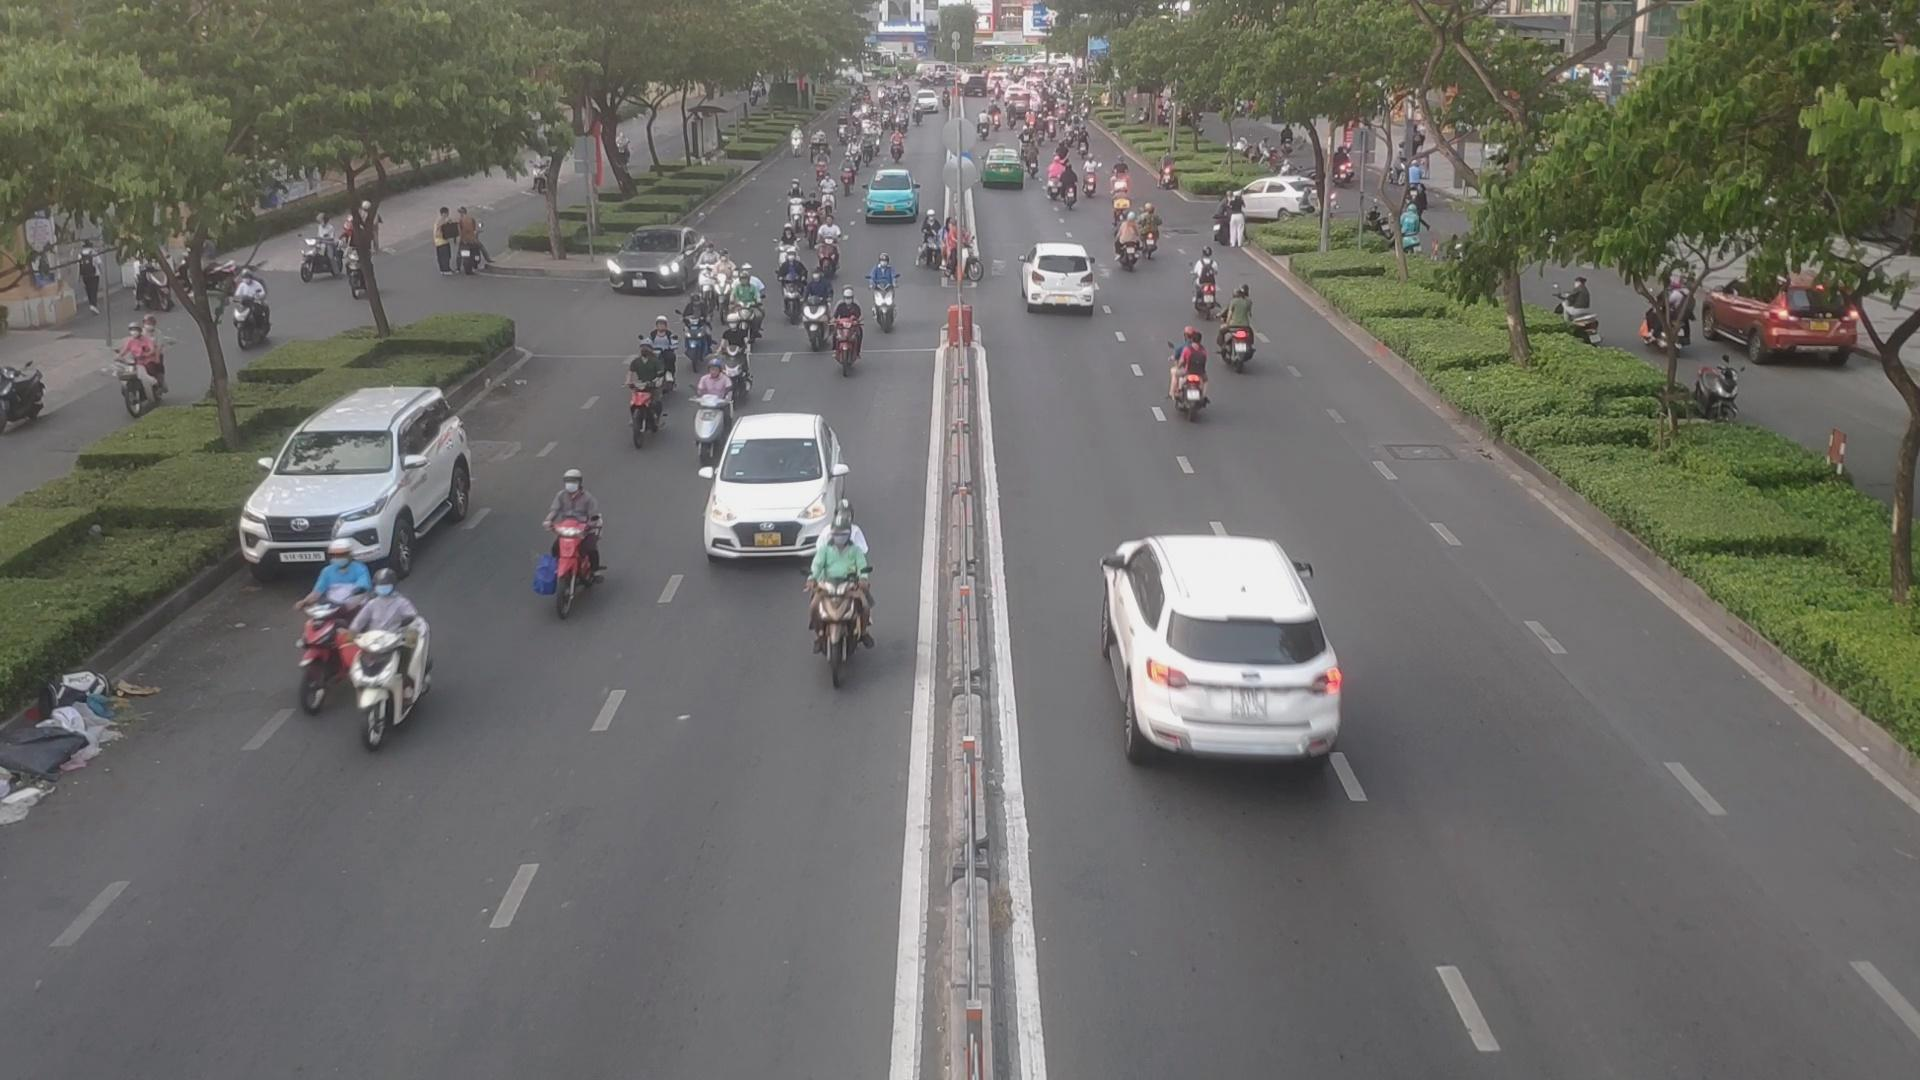car: (1095, 539, 1346, 764), (233, 384, 488, 578), (700, 410, 847, 562), (605, 229, 707, 297), (1022, 243, 1102, 315), (1226, 179, 1313, 224), (864, 170, 922, 224)
motorbike: (349, 575, 439, 746), (287, 533, 364, 715), (804, 512, 884, 661), (535, 502, 611, 609), (613, 339, 673, 444), (1222, 276, 1266, 375), (1163, 328, 1207, 415), (796, 274, 837, 361), (716, 316, 757, 400), (725, 260, 765, 345), (940, 222, 986, 289), (1184, 239, 1220, 313), (644, 314, 676, 389), (671, 299, 705, 367), (833, 293, 861, 373), (709, 247, 738, 320), (766, 218, 802, 277), (774, 251, 803, 323), (866, 255, 894, 330), (814, 216, 843, 280), (1138, 202, 1160, 265), (696, 244, 717, 307), (1118, 218, 1142, 270), (1080, 156, 1101, 203), (922, 219, 939, 272), (806, 195, 822, 247), (789, 179, 803, 229), (1113, 193, 1130, 235), (822, 171, 837, 216), (1046, 161, 1062, 200), (1063, 169, 1079, 204), (1112, 160, 1125, 196)
